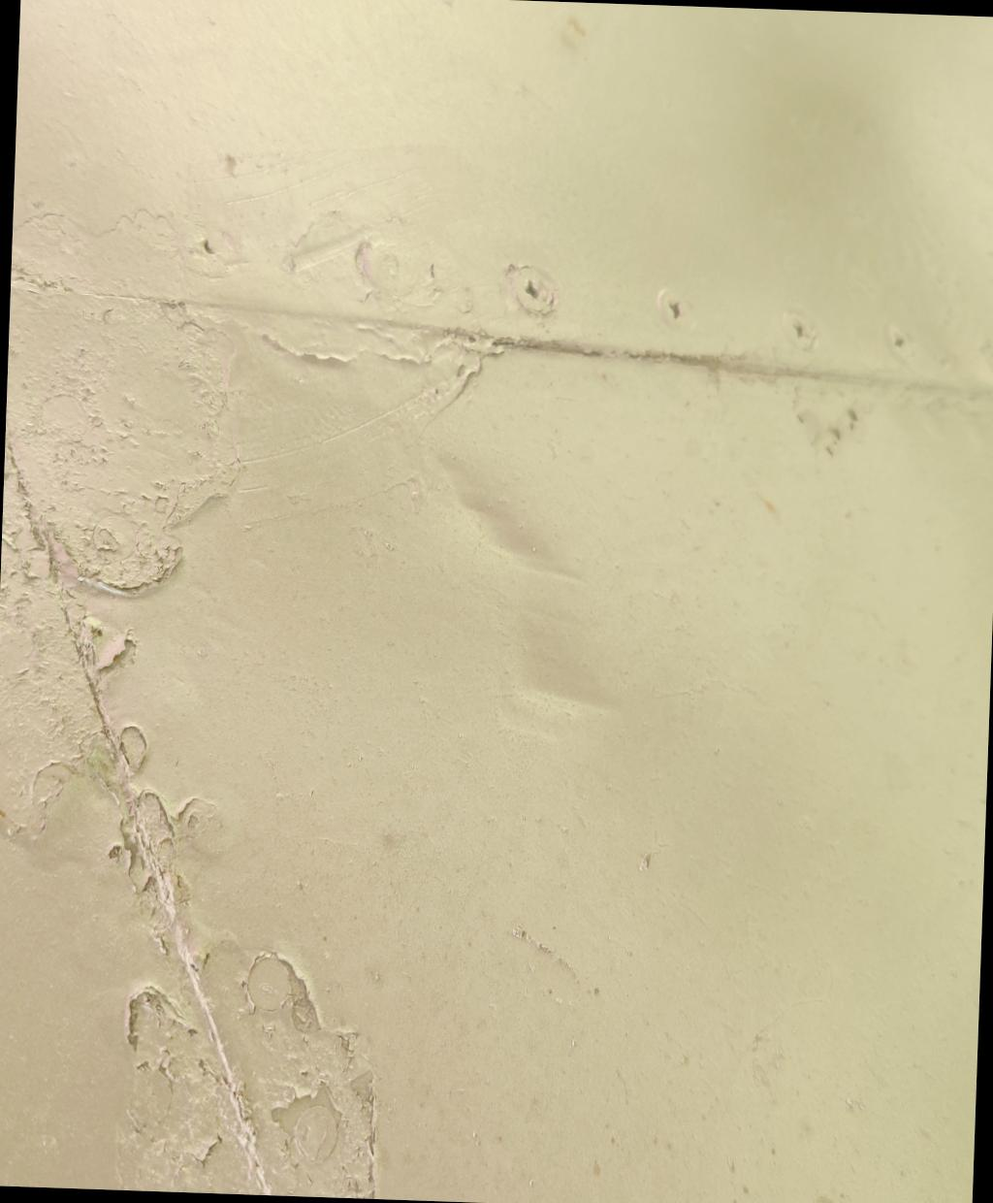dent: (380, 422, 689, 759)
